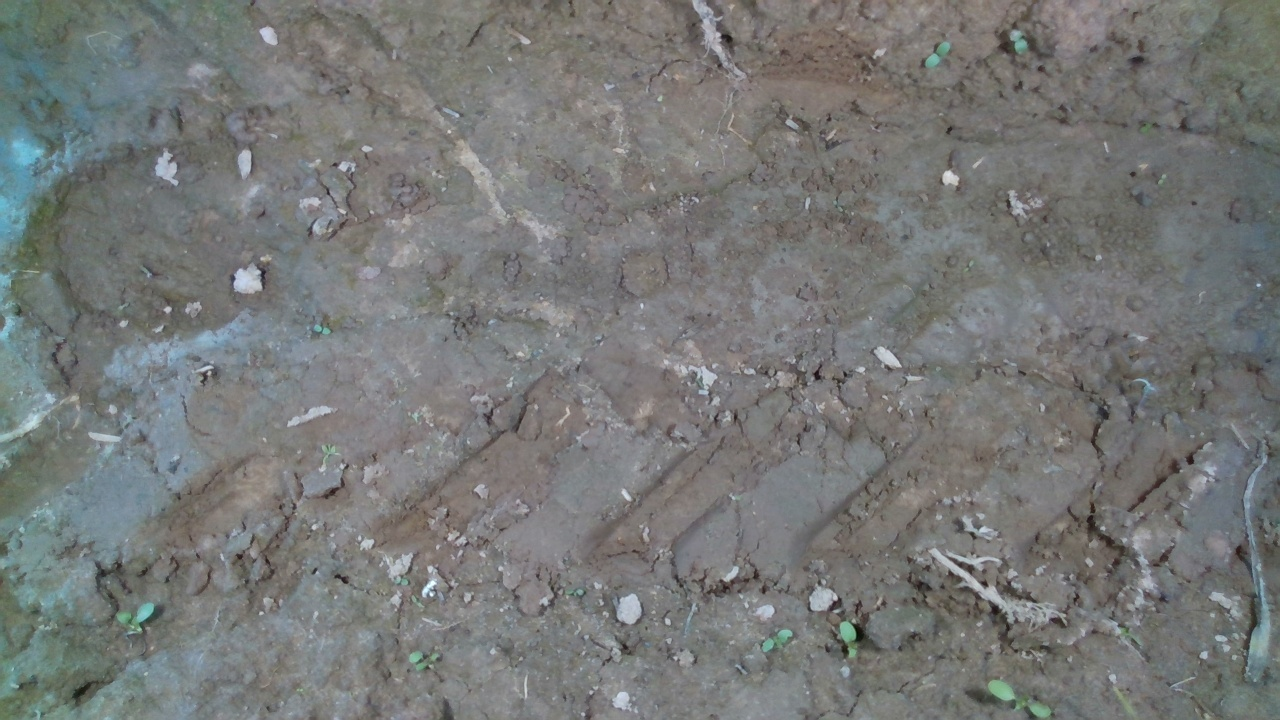weed: (985, 678, 1052, 719), (111, 599, 158, 637), (836, 620, 859, 661), (759, 627, 793, 654), (924, 38, 952, 70), (1007, 29, 1029, 58), (312, 322, 333, 335)
